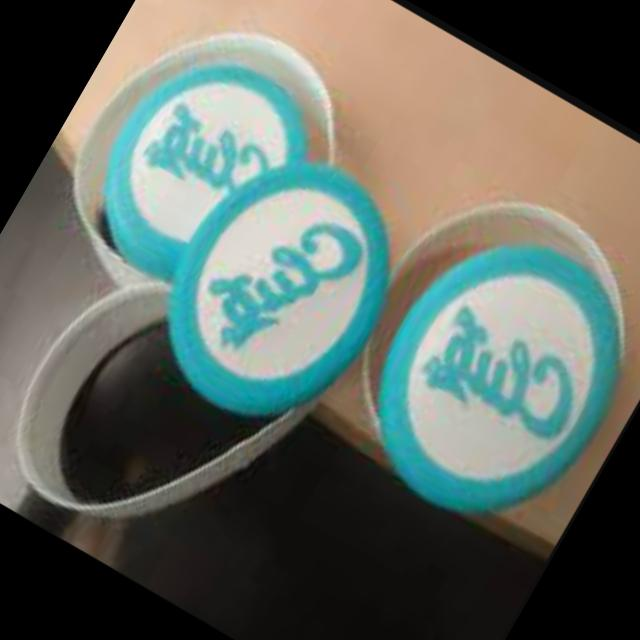TutupGalon: (0, 81, 437, 597), (298, 152, 640, 568), (24, 0, 368, 349)
